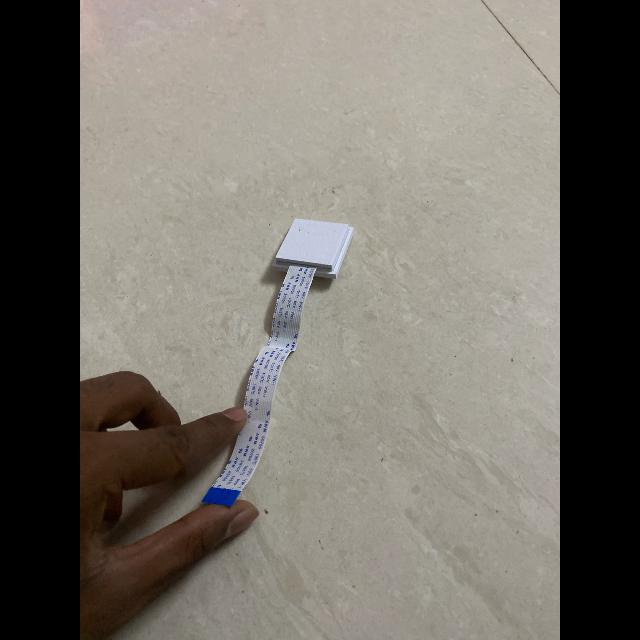RASPBERY PI CAM ENCLOSURE: (272, 218, 354, 280)
